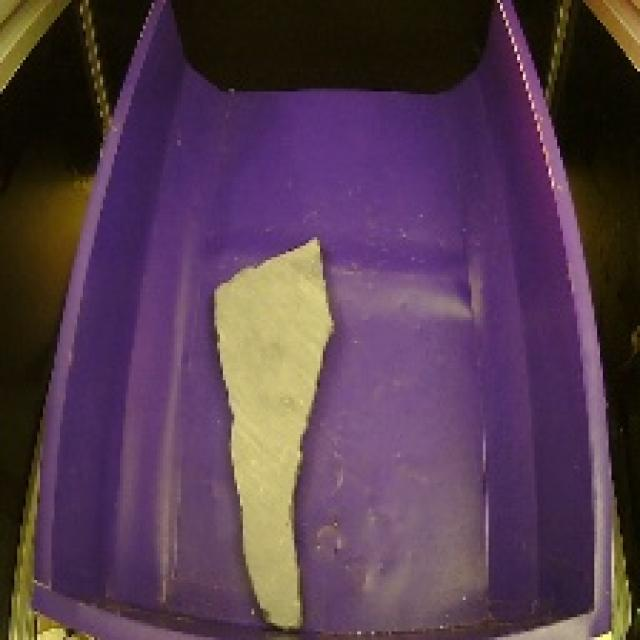china: (202, 224, 342, 640)
